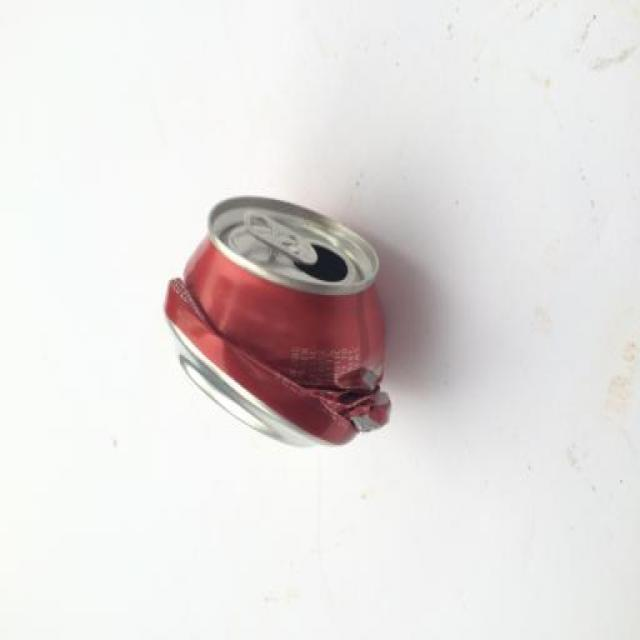metel: (186, 194, 400, 445)
